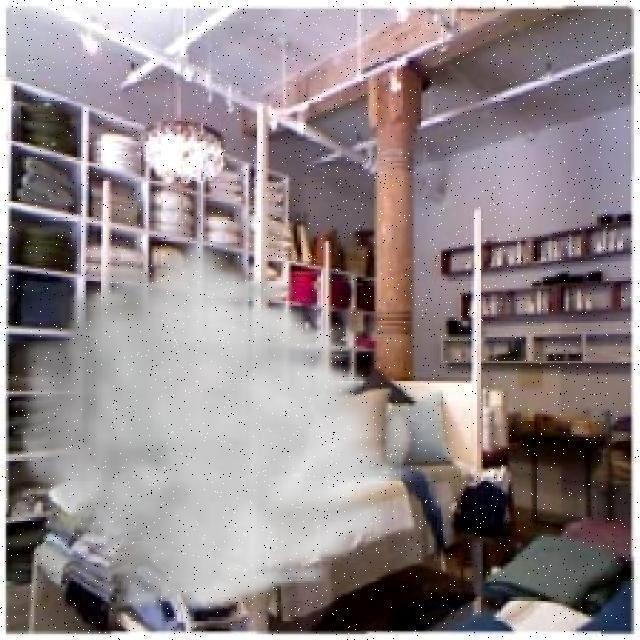no_helmet: (4, 219, 427, 612)
